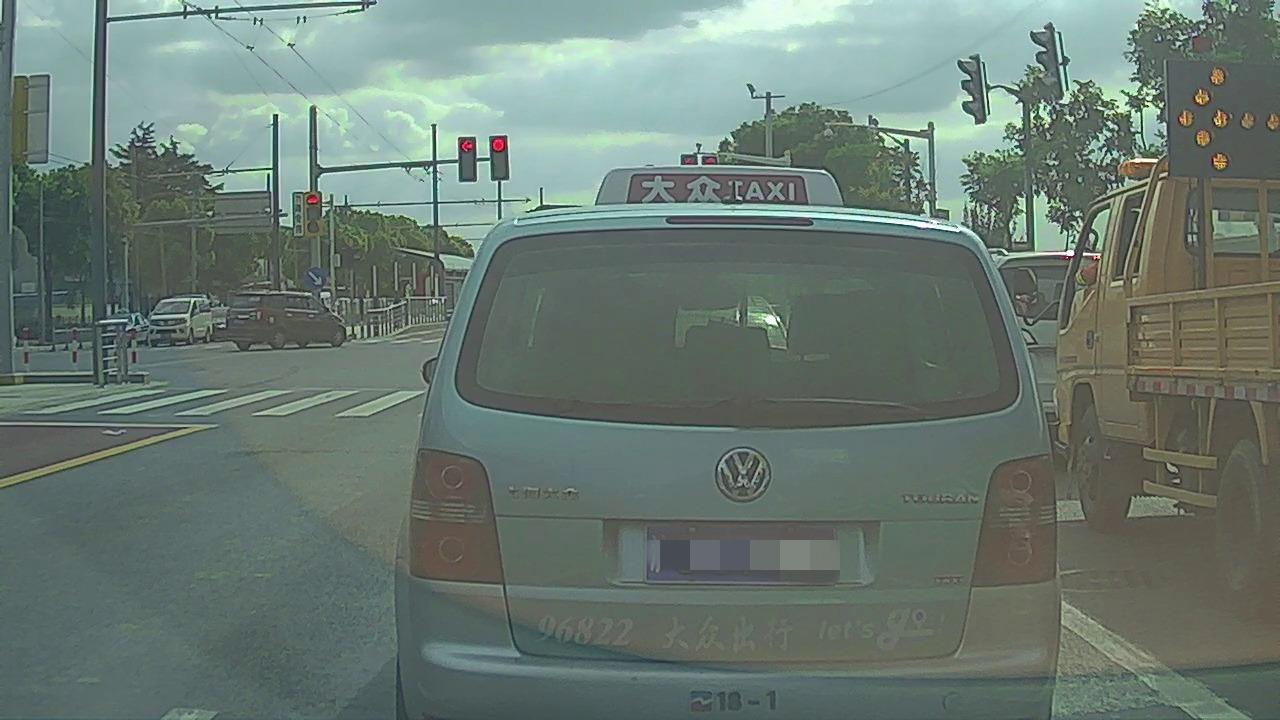traffic_light: (459, 138, 477, 179), (491, 136, 507, 178)
